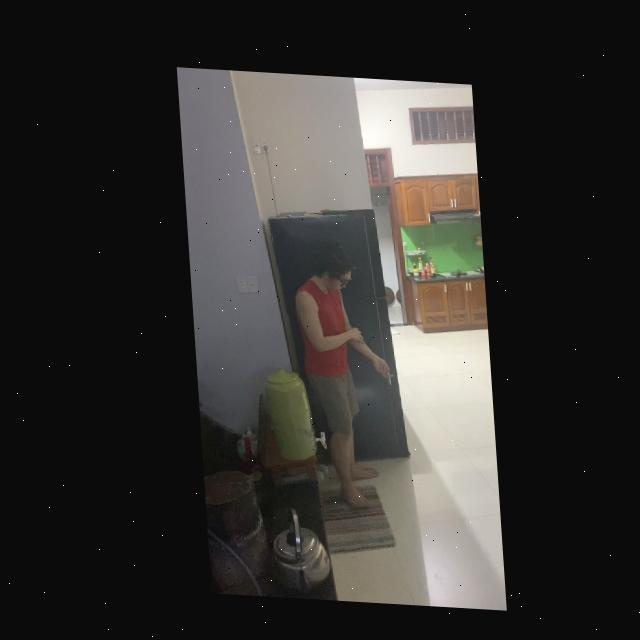cigarette: (382, 367, 386, 381)
